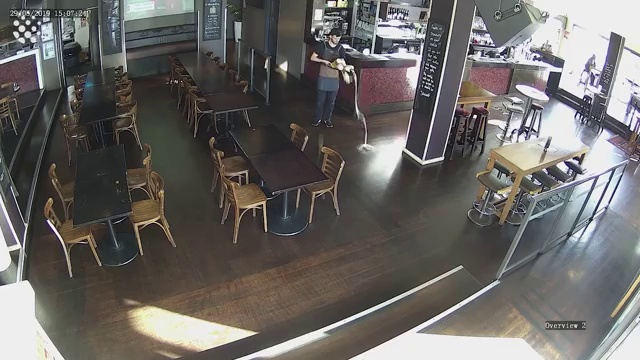face: (332, 34, 340, 45)
